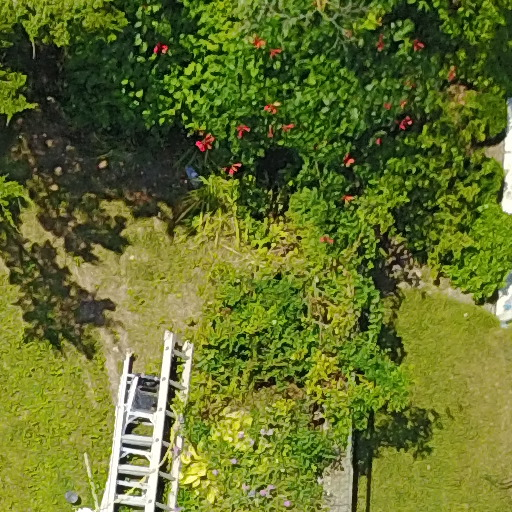container: (66, 486, 87, 507)
